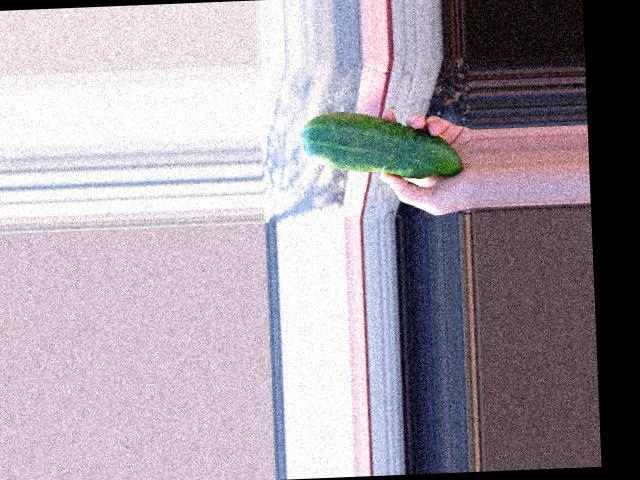cucumber: (300, 106, 462, 182)
